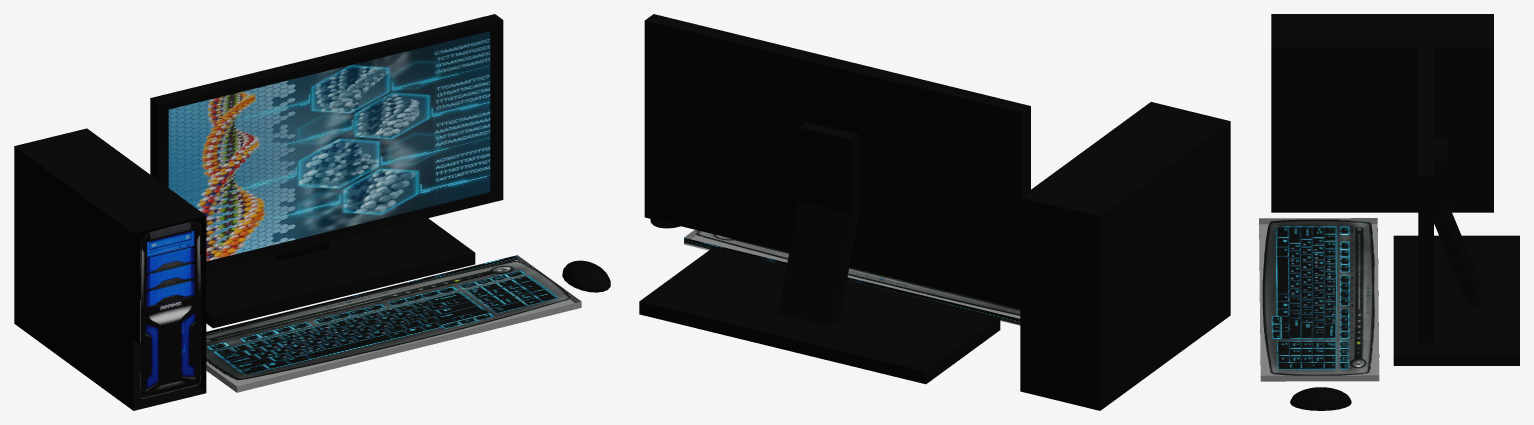
The model's file is computer.fbx.
3 views of the same model, side by side, from view 1: azimuth 30°, elevation 25°; view 2: azimuth 150°, elevation 25°; view 3: azimuth 270°, elevation 25° (orthographic). The views are drawn at different scales.
Visible parts, largest first — view 1: pCube1, pCube3, pCube2, pSphere1; view 2: pCube1, pCube3, pCube2; view 3: pCube3, pCube1, pCube2, pSphere1.
Part boxes in pixels (x1,y1,x2,y2): pCube1: (150, 14, 503, 328); pCube3: (14, 128, 206, 410); pCube2: (206, 255, 581, 392); pSphere1: (562, 260, 610, 292); pCube1: (639, 14, 1030, 384); pCube3: (1020, 102, 1230, 410); pCube2: (684, 229, 1020, 325); pCube3: (1271, 14, 1493, 212); pCube1: (1393, 18, 1519, 365); pCube2: (1259, 218, 1379, 381); pSphere1: (1290, 387, 1351, 410).
Bounding box in the file's own units: 6.7 × 2.95 × 3.26.
